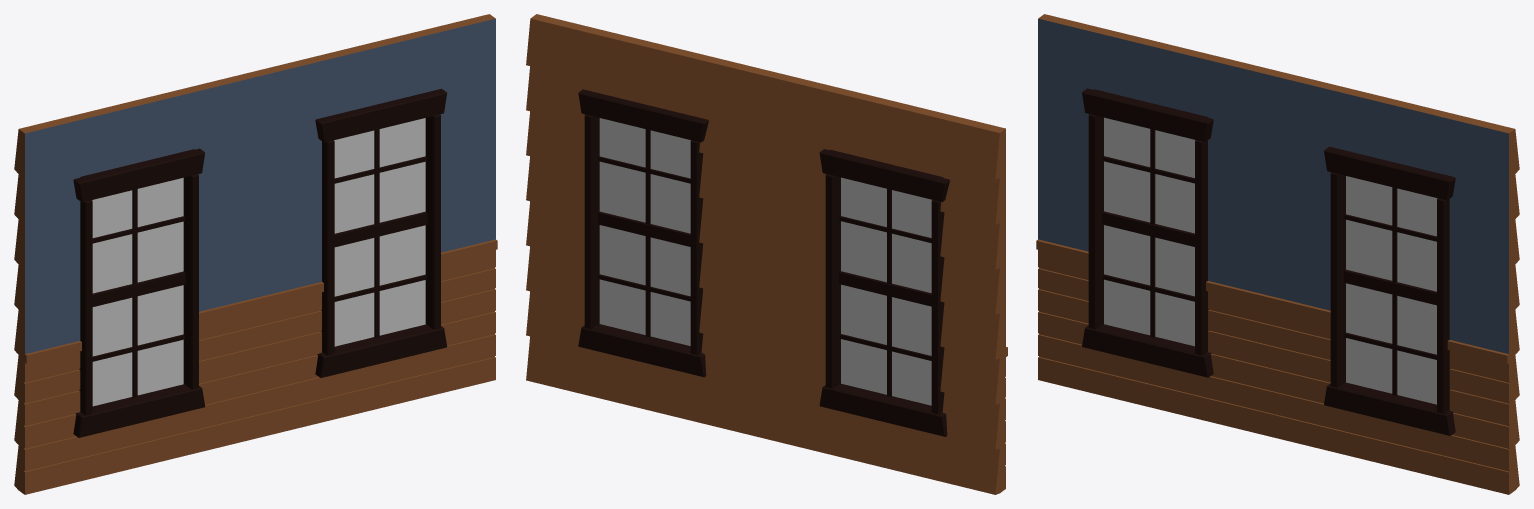
File: ww_window_c.glb
The picture shows the model from 3 angles, left to right: view 1: azimuth 30°, elevation 25°; view 2: azimuth 150°, elevation 25°; view 3: azimuth 330°, elevation 25°; orthographic projection.
Visible parts, largest first — view 1: Window_C; view 2: Window_C; view 3: Window_C.
Boxes of the visible parts, <box> form: Window_C: <box>14,14,497,494</box>; Window_C: <box>526,14,1007,494</box>; Window_C: <box>1036,14,1519,494</box>.
Bounding box in the file's own units: 4.8 × 3.52 × 0.3117.
